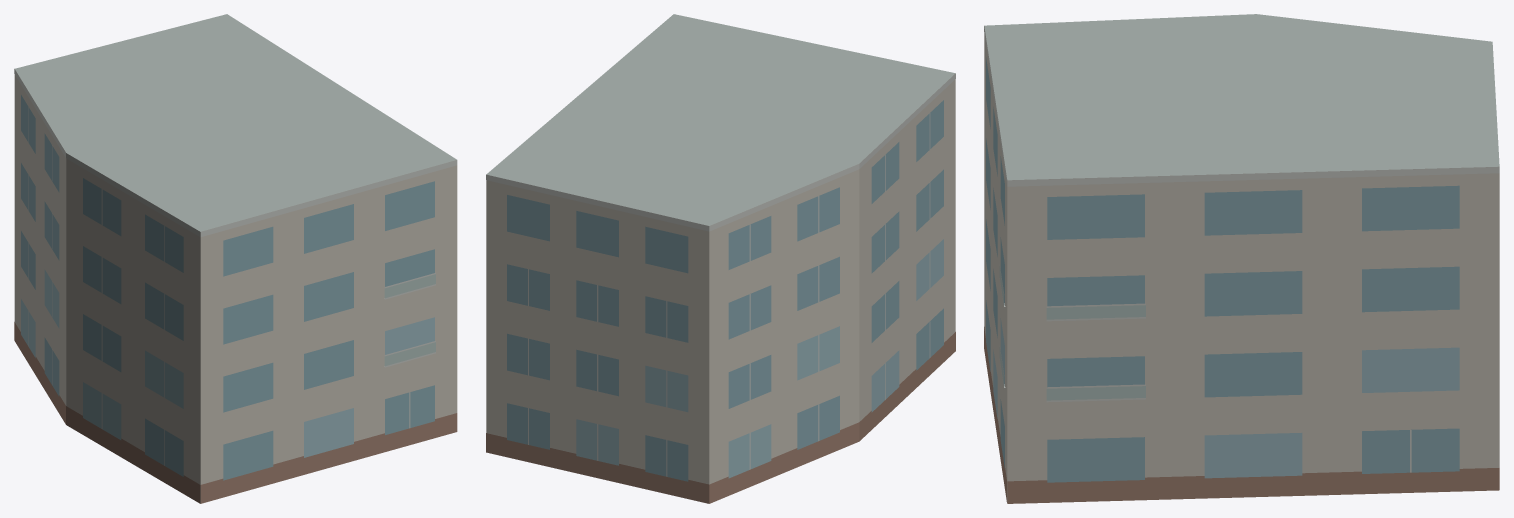
The model's file is survey-upis-32804733.glb.
3 renders of one model, left to right at view 1: azimuth 30°, elevation 25°; view 2: azimuth 150°, elevation 25°; view 3: azimuth 270°, elevation 25°, orthographic. The views are drawn at different scales.
Parts seen in each view (by area): view 1: survey-upis-32804733.tmp; view 2: survey-upis-32804733.tmp; view 3: survey-upis-32804733.tmp.
Part boxes in pixels (x1=…): survey-upis-32804733.tmp: x1=14, y1=14, x2=457, y2=503; survey-upis-32804733.tmp: x1=486, y1=14, x2=955, y2=503; survey-upis-32804733.tmp: x1=984, y1=14, x2=1499, y2=503.
Size of the model in its own units: 13.45 by 12.2 by 17.62.
